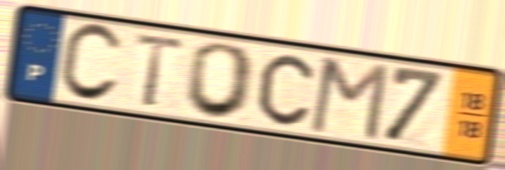7: (385, 62, 446, 146)
C: (56, 21, 126, 106), (256, 52, 317, 129)
M: (306, 54, 393, 144)
O: (181, 40, 260, 122)
T: (130, 30, 190, 109)
